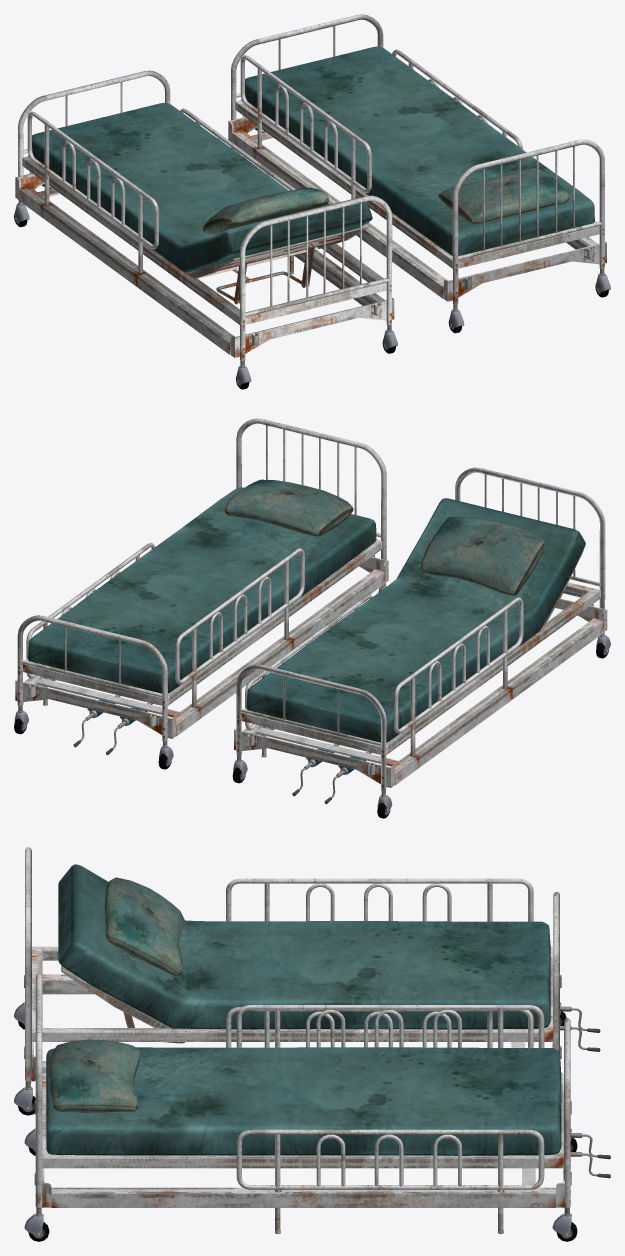
The model's file is hospital_beds.glb.
3 views of the same model, one above another, from view 1: azimuth 30°, elevation 25°; view 2: azimuth 150°, elevation 25°; view 3: azimuth 270°, elevation 25° (orthographic). The views are drawn at different scales.
Visible parts, largest first — view 1: matresses, beds; view 2: matresses, beds; view 3: matresses, beds.
Part boxes in pixels (box(x1,y1,x2,y2)): matresses: box(28, 46, 594, 272); beds: box(14, 14, 610, 389); matresses: box(27, 479, 585, 742); beds: box(14, 418, 610, 818); matresses: box(46, 864, 561, 1155); beds: box(14, 847, 610, 1241).
Bounding box in the file's own units: 1.93 × 0.7922 × 2.22.
Materials: 2 (2 with a texture image).
